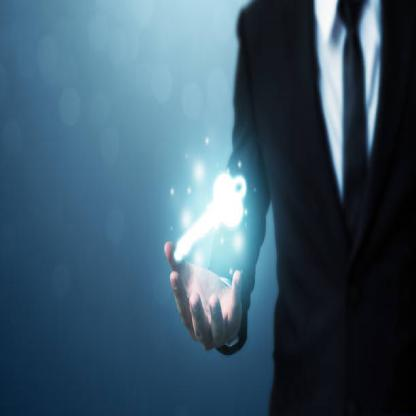keys: (174, 169, 254, 267)
